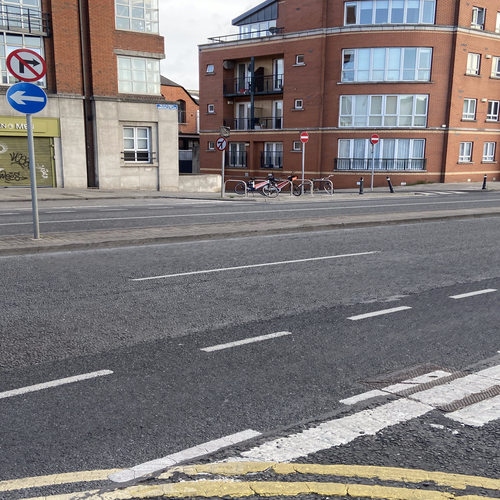Left Turn: (7, 82, 48, 117)
No Turn: (7, 49, 46, 83), (217, 134, 228, 152)
No entry: (370, 132, 382, 145), (300, 131, 308, 145)
